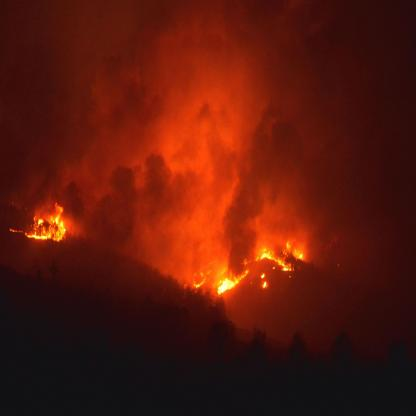fire: (192, 248, 313, 297), (16, 194, 68, 242)
smoke: (210, 106, 306, 244), (56, 13, 162, 132), (70, 158, 190, 250)
